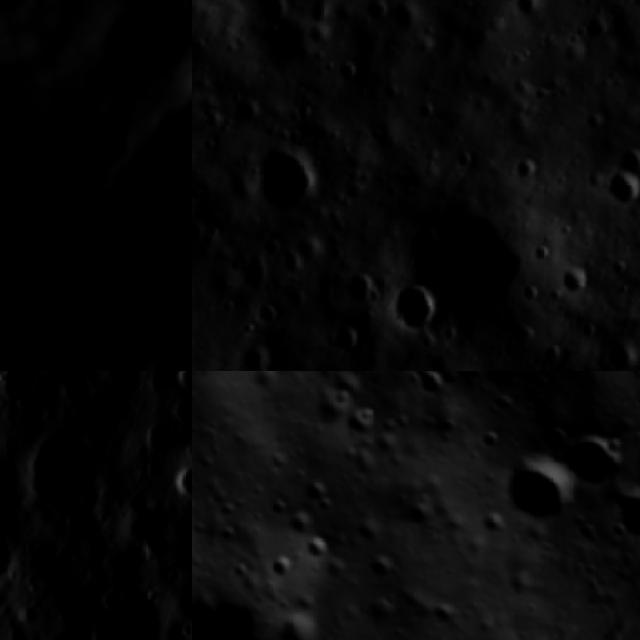crater: (398, 198, 552, 328), (4, 414, 118, 534), (491, 442, 584, 542), (81, 0, 170, 102), (192, 555, 285, 640), (554, 422, 633, 498), (254, 142, 328, 221), (604, 462, 640, 561), (392, 283, 443, 339), (293, 476, 346, 526), (529, 416, 580, 464), (264, 604, 330, 640), (355, 542, 404, 589), (336, 264, 382, 310), (474, 371, 547, 398), (284, 506, 326, 550), (325, 324, 366, 364), (296, 529, 336, 570), (603, 170, 640, 213), (0, 526, 24, 587), (555, 261, 593, 299), (265, 546, 301, 585), (162, 456, 192, 502), (387, 0, 424, 36), (235, 258, 271, 295), (237, 337, 274, 371), (227, 96, 264, 127), (603, 341, 640, 371), (0, 371, 41, 397), (579, 17, 610, 48), (505, 157, 538, 186), (611, 149, 640, 180), (248, 304, 280, 332), (359, 0, 391, 25), (282, 251, 306, 277), (337, 56, 357, 85), (456, 152, 478, 175), (180, 50, 192, 89), (514, 0, 543, 16)
